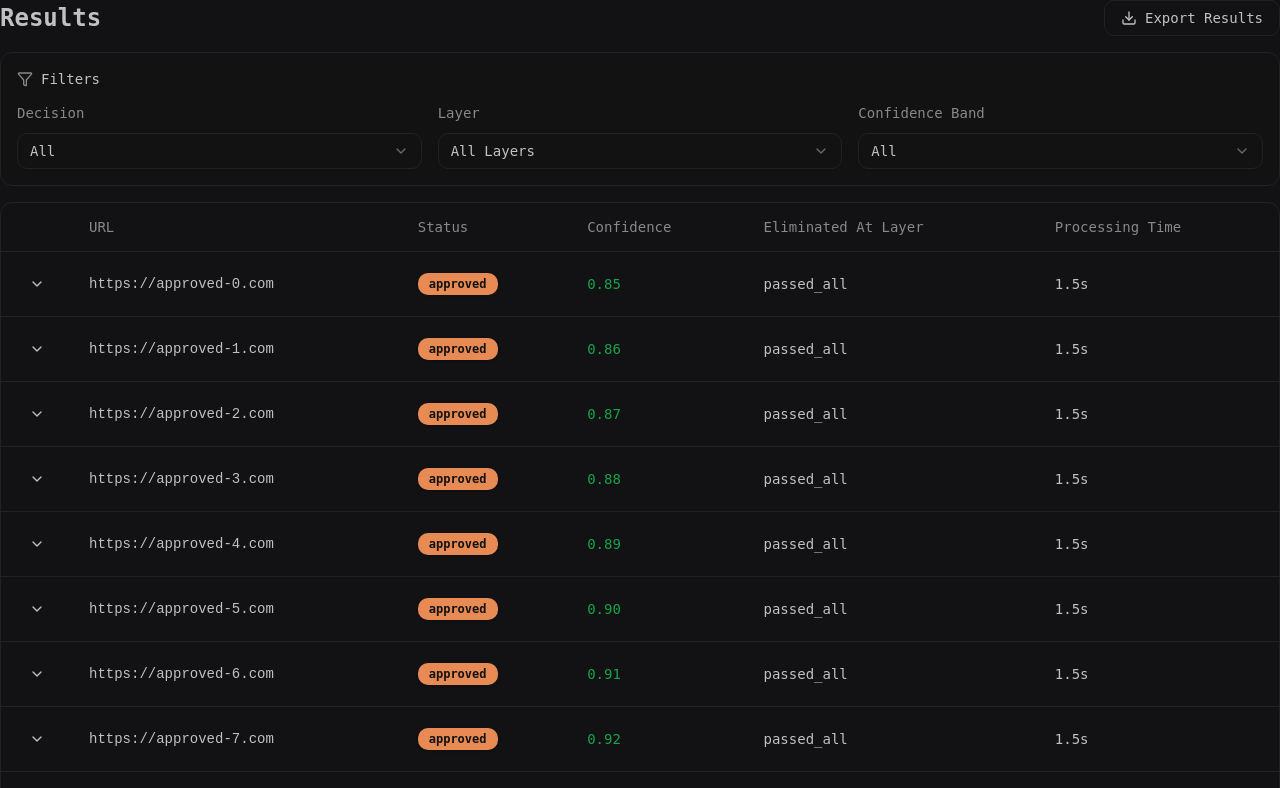
CSV Export Integration Tests › ResultsTable Export Button Integration › should open ExportDialog when export button clicked
expect the text "https://approved-0.com" is shown: met, box [73,251,402,316]
Click the button "Export Results": (1192, 18) [1104,0,1279,36]
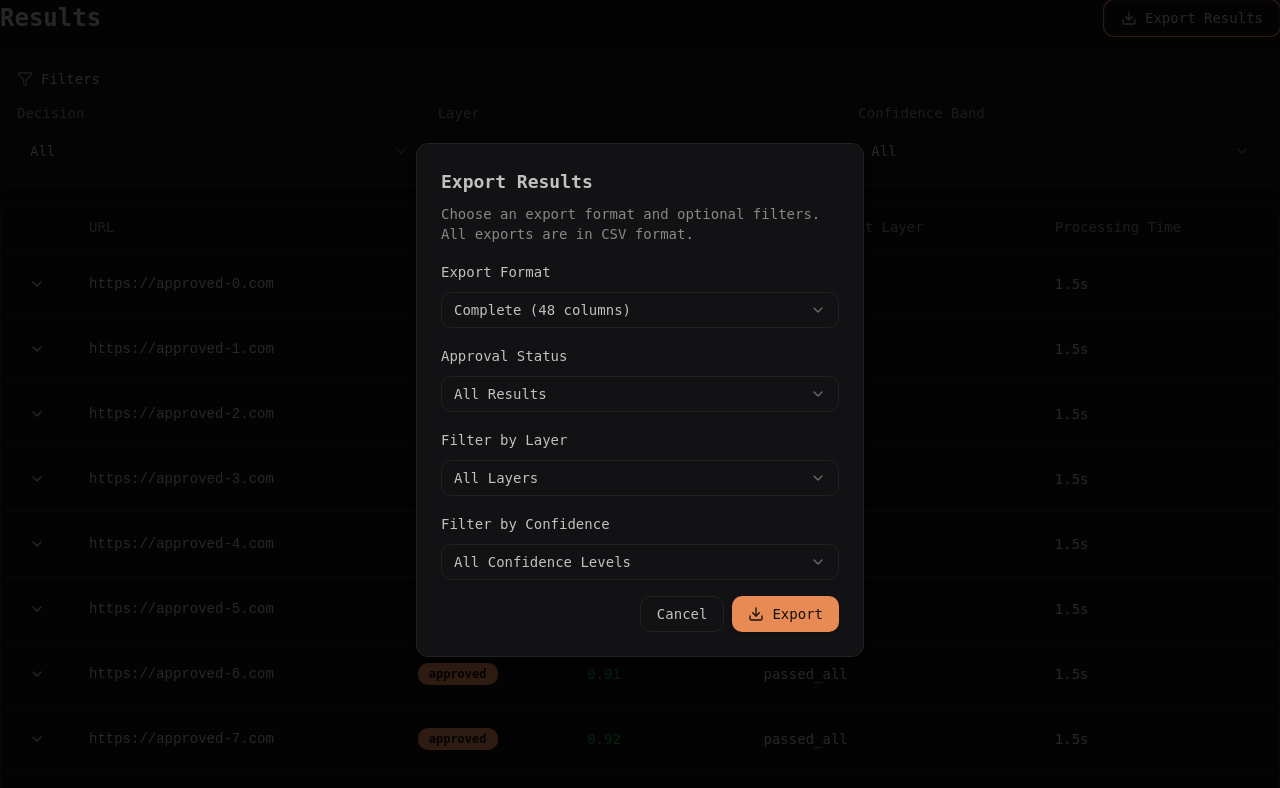
expect the text "Choose an export format and optional filters" is shown: met, box [441,206,820,242]
